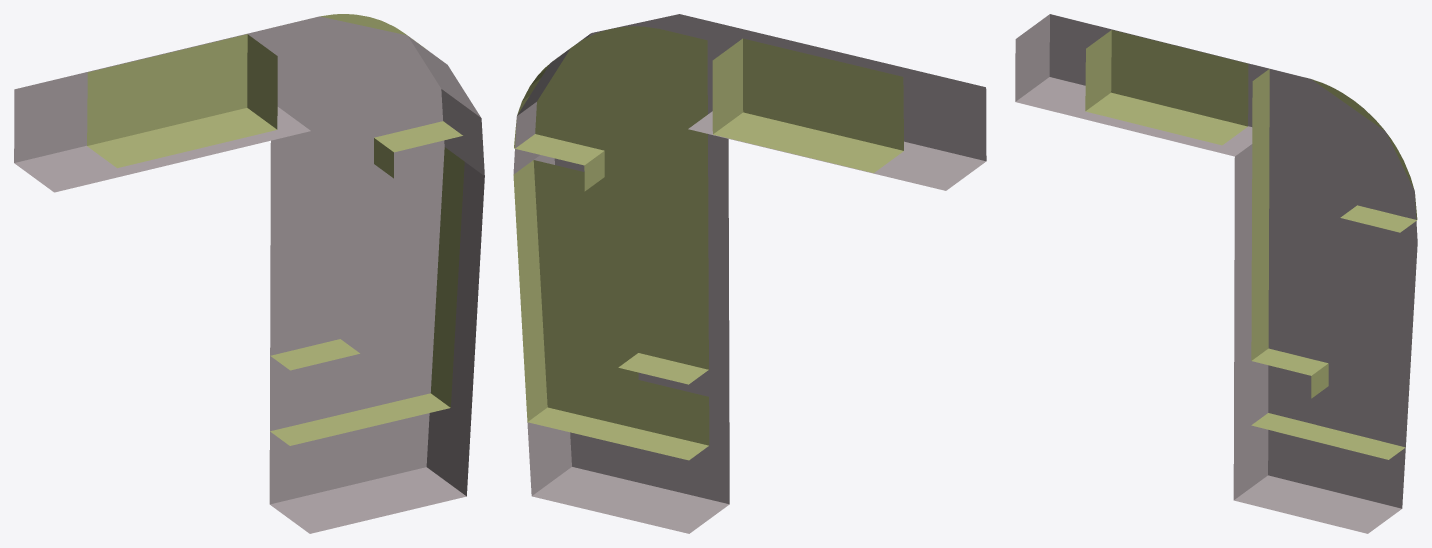
3 views of the same model, side by side, from view 1: azimuth 30°, elevation 25°; view 2: azimuth 150°, elevation 25°; view 3: azimuth 330°, elevation 25° (orthographic). The views are drawn at different scales.
Parts seen in each view (by area): view 1: 0_2_0_1_2_1_2_1; view 2: 0_2_0_1_2_1_2_1; view 3: 0_2_0_1_2_1_2_1.
Part boxes in pixels (x1,y1,x2,y2): 0_2_0_1_2_1_2_1: [14, 14, 484, 533]; 0_2_0_1_2_1_2_1: [513, 14, 986, 533]; 0_2_0_1_2_1_2_1: [1015, 14, 1417, 533].
Bounding box in the file's own units: 74.12 × 78.67 × 12.01.
